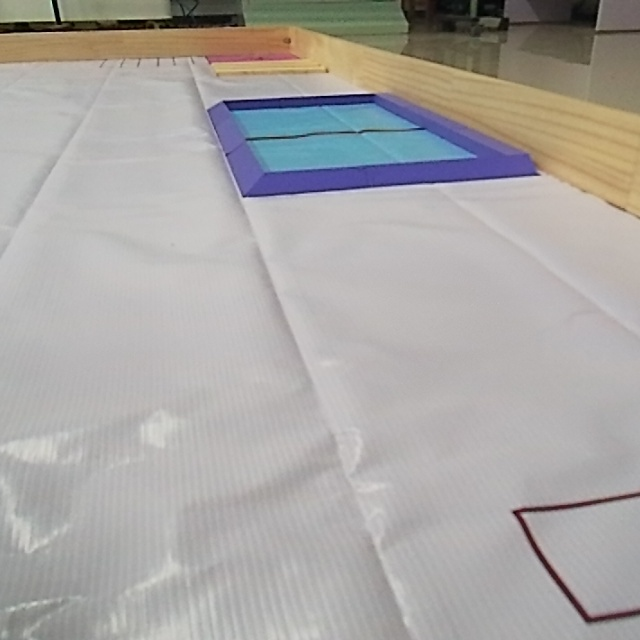zone2: (198, 83, 538, 208)
